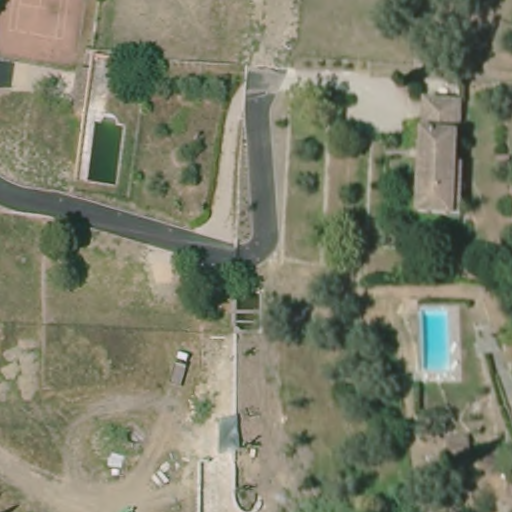pool: (412, 301, 462, 379)
